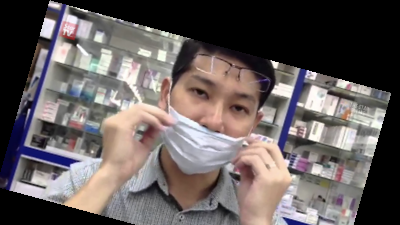mask_weared_incorrect: (148, 22, 272, 179)
